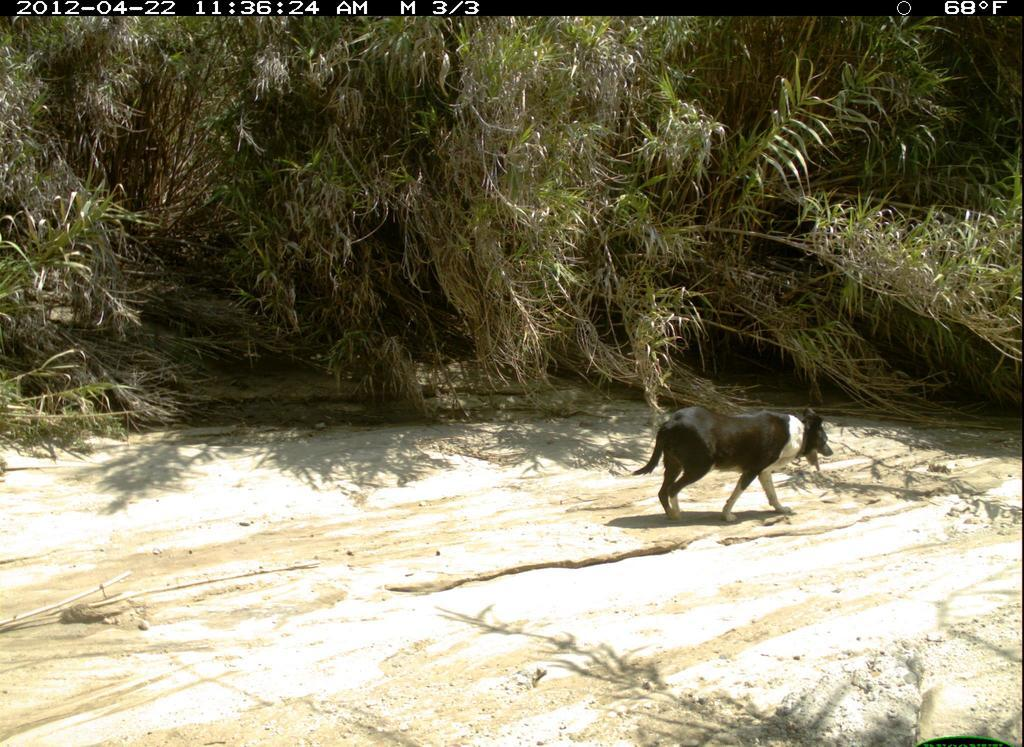dog: (626, 397, 841, 534)
